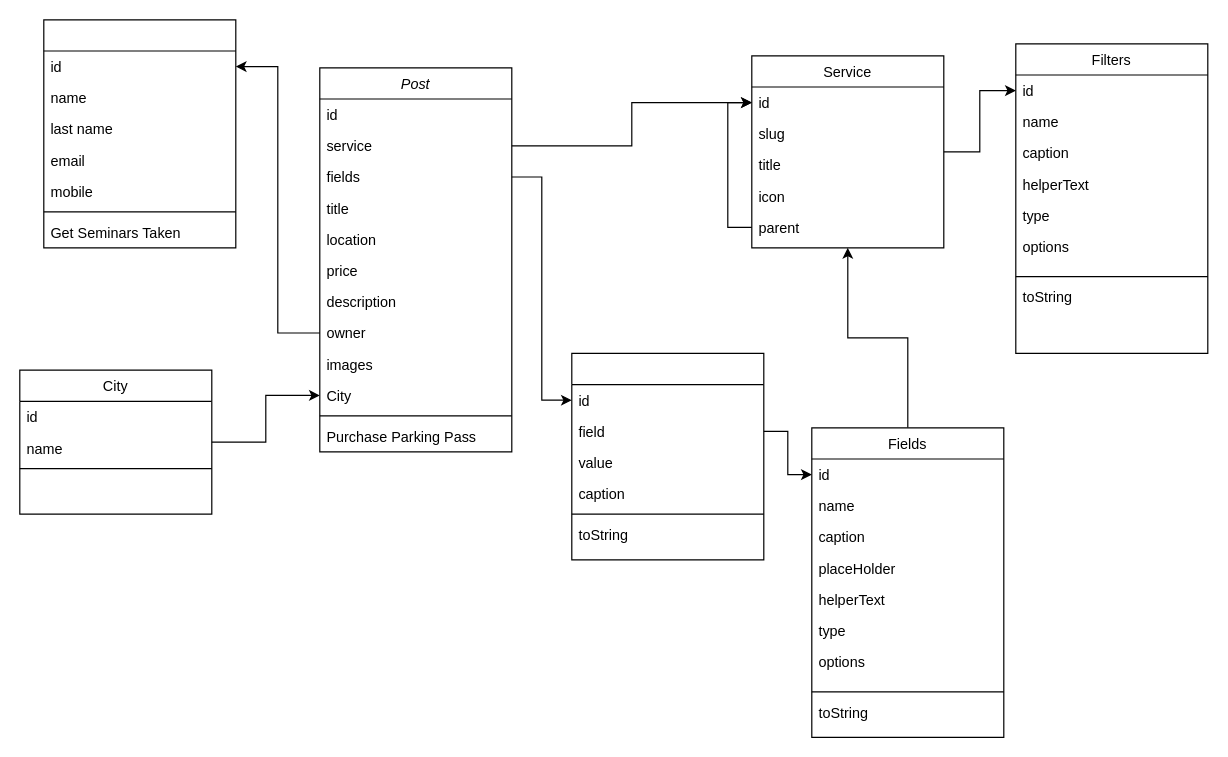
Image size: 1228x757. Some labels were removed from this diagram. The shapes that lost their labels are listed below. From the top down, each one's box as (x1, y1, x2, y2) in pixels, then its label:
(43, 19, 236, 248): Person
(571, 352, 764, 560): Fields Value
